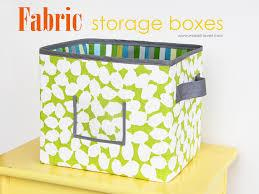cube: (39, 39, 207, 183)
